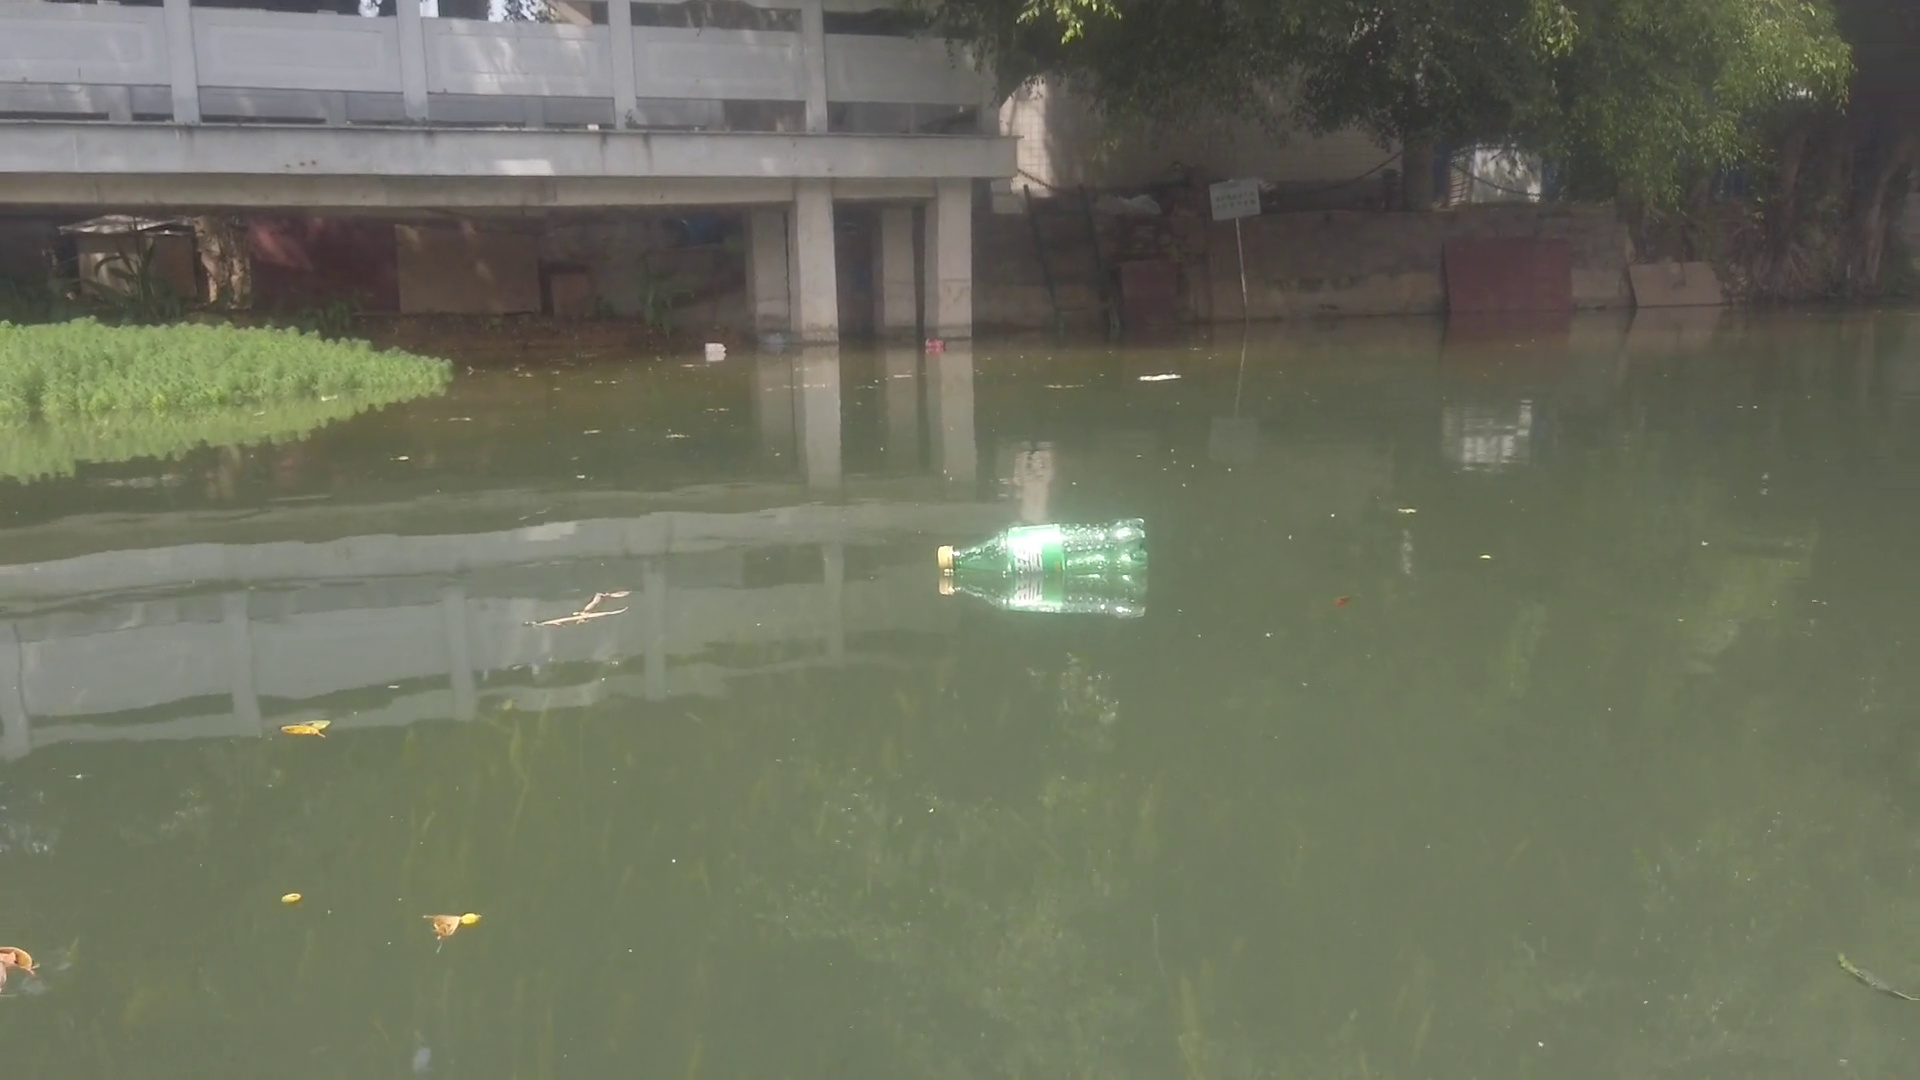bottle: (932, 517, 1146, 584), (922, 339, 951, 352)
carton: (699, 340, 729, 353)
paper: (1137, 367, 1189, 389)
